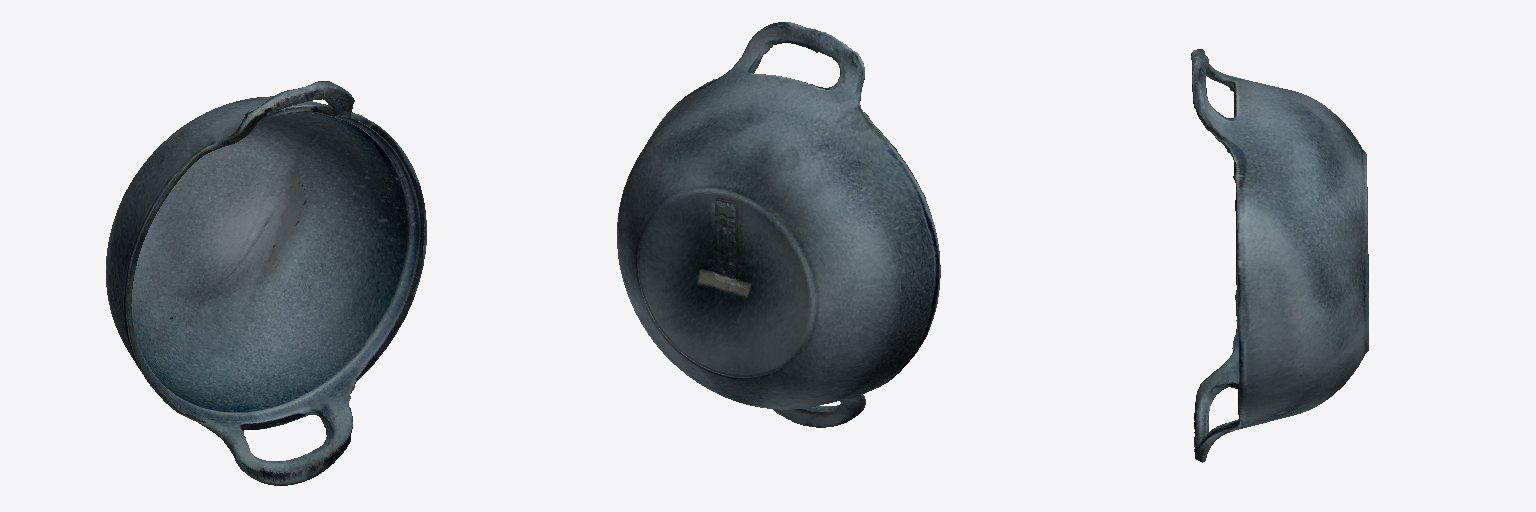
3 views of the same model, side by side, from view 1: azimuth 30°, elevation 25°; view 2: azimuth 150°, elevation 25°; view 3: azimuth 270°, elevation 25° (orthographic).
Bounding box in the file's own units: 200 × 251 × 102.
1 materials, 1 textured.